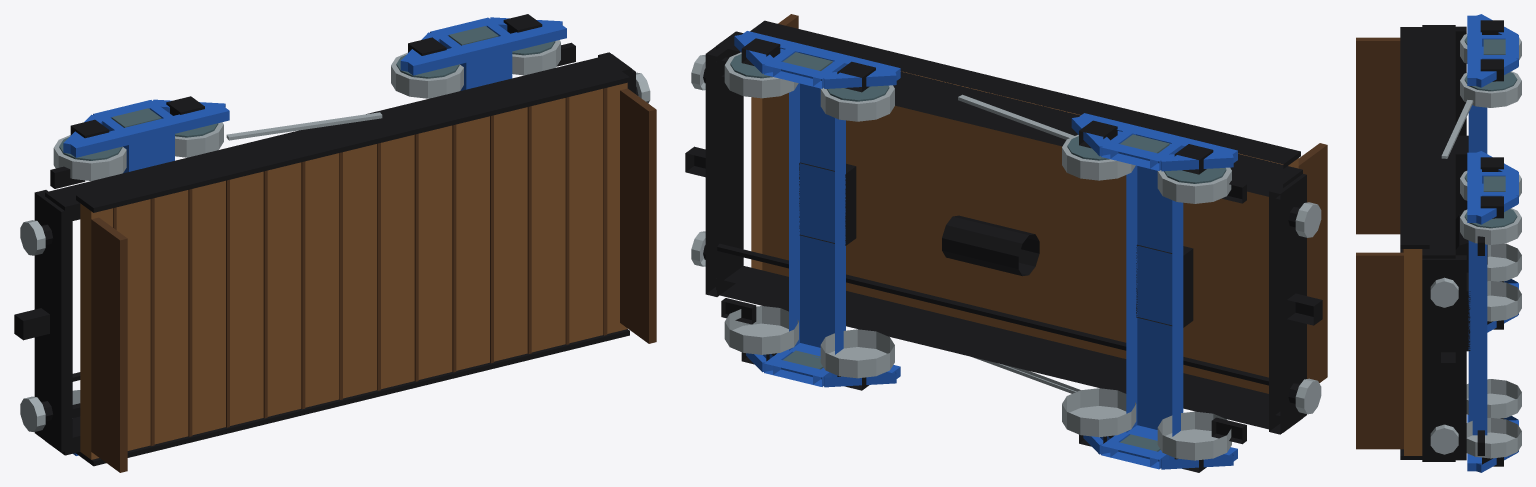
The model's file is empty.glb.
3 renders of one model, left to right at view 1: azimuth 30°, elevation 25°; view 2: azimuth 150°, elevation 25°; view 3: azimuth 270°, elevation 25°, orthographic. The views are drawn at different scales.
Parts seen in each view (by area): view 1: empty_deck, empty_side1_-3.50_1.90, empty_bogie-1, empty_bogie1, empty_bulkhead1, empty_bulkhead-1, empty_headstock-1, empty_solebar1, empty_side-1_-3.50_1.90, empty_buffers-1, empty_plank4, empty_plank5 (+12 smaller); view 2: empty_deck, empty_bogie-1, empty_bogie1, empty_solebar-1, empty_side1_-3.50_1.90, empty_headstock1, empty_headstock-1, empty_solebar1, empty_bulkhead-1, empty_brake_cylinder, empty_brake_pipe, empty_buffers-1 (+5 smaller); view 3: empty_bogie1, empty_bulkhead1, empty_bulkhead-1, empty_bogie-1, empty_headstock1, empty_side1_-3.50_1.90, empty_solebar1, empty_deck, empty_buffers1, empty_headstock-1, empty_pivot-1, empty_brake_lever1 (+3 smaller).
Part boxes in pixels (x1,y1,x2,y2): empty_deck: (80, 82, 627, 459); empty_side1_-3.50_1.90: (76, 64, 629, 212); empty_bogie-1: (53, 96, 229, 455); empty_bogie1: (391, 14, 566, 98); empty_bulkhead1: (620, 88, 656, 343); empty_bulkhead-1: (91, 217, 127, 472); empty_headstock-1: (34, 190, 72, 452); empty_solebar1: (45, 54, 631, 222); empty_side-1_-3.50_1.90: (76, 329, 629, 466); empty_buffers-1: (14, 220, 52, 431); empty_plank4: (263, 170, 267, 418); empty_plank5: (301, 161, 305, 409); empty_deck: (751, 71, 1298, 393); empty_bogie-1: (1062, 113, 1237, 472); empty_bogie1: (724, 31, 900, 390); empty_solebar-1: (716, 266, 1302, 432); empty_side1_-3.50_1.90: (750, 20, 1300, 168); empty_headstock1: (705, 46, 743, 296); empty_headstock-1: (1269, 174, 1306, 434); empty_solebar1: (716, 31, 1302, 199); empty_bulkhead-1: (1298, 143, 1327, 382); empty_brake_cylinder: (942, 215, 1039, 276); empty_brake_pipe: (717, 243, 1268, 385); empty_buffers-1: (1287, 202, 1322, 414); empty_bogie1: (1460, 151, 1521, 472); empty_bulkhead1: (1356, 252, 1403, 449); empty_bulkhead-1: (1356, 37, 1400, 234); empty_bogie-1: (1460, 14, 1521, 332); empty_headstock1: (1422, 255, 1466, 460); empty_side1_-3.50_1.90: (1400, 27, 1429, 248); empty_solebar1: (1422, 25, 1455, 258); empty_deck: (1404, 249, 1422, 455); empty_buffers1: (1430, 277, 1458, 454); empty_headstock-1: (1455, 26, 1466, 218); empty_pivot-1: (1455, 135, 1468, 214); empty_brake_lever1: (1441, 100, 1473, 158).
Size of the model in its own units: 8.2 by 3.9 by 2.25.
